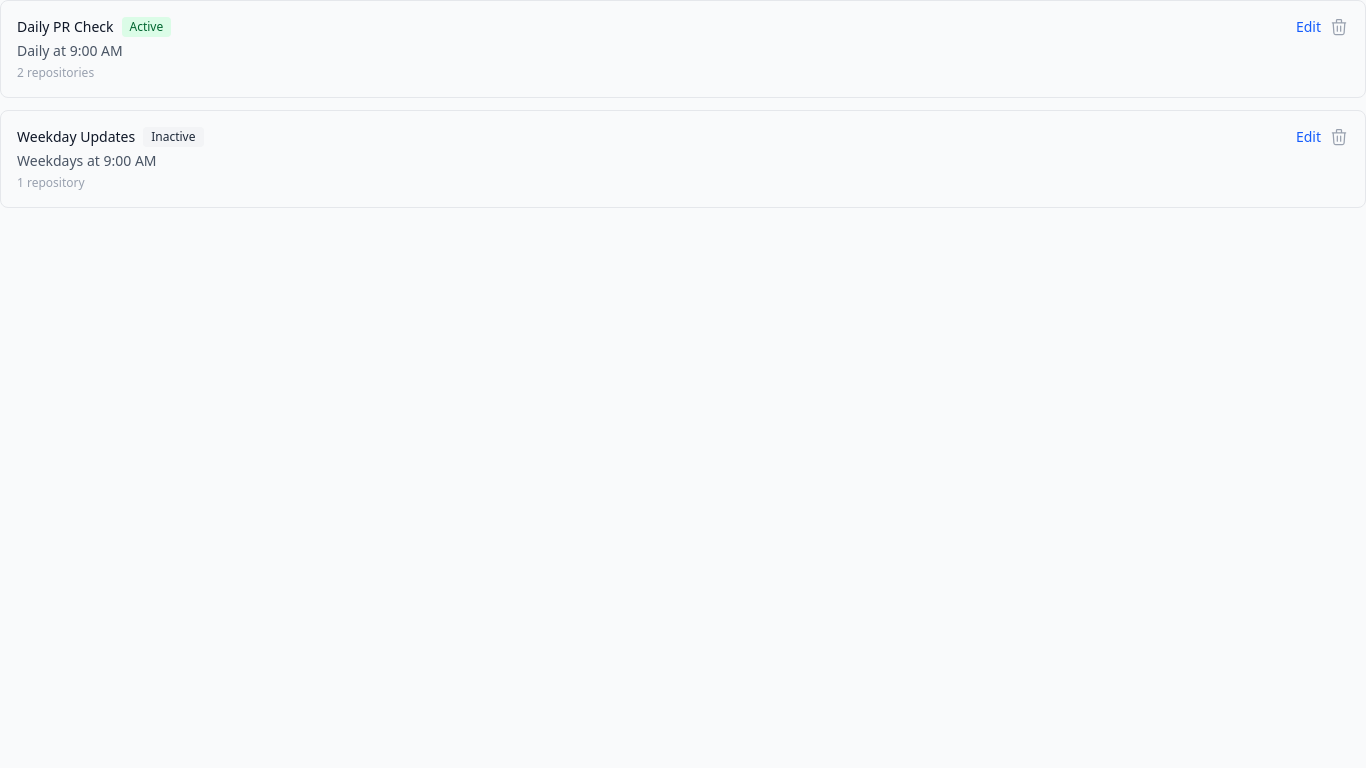
Test: ScheduleList › delete functionality › closes confirmation dialog when cancel clicked
This screenshot has width=1366, height=768.
What coordinates should you click on to do the following:
click the button named "delete daily pr check"
I would click on:
 (1339, 27)
Its box is [1329,17,1349,37].
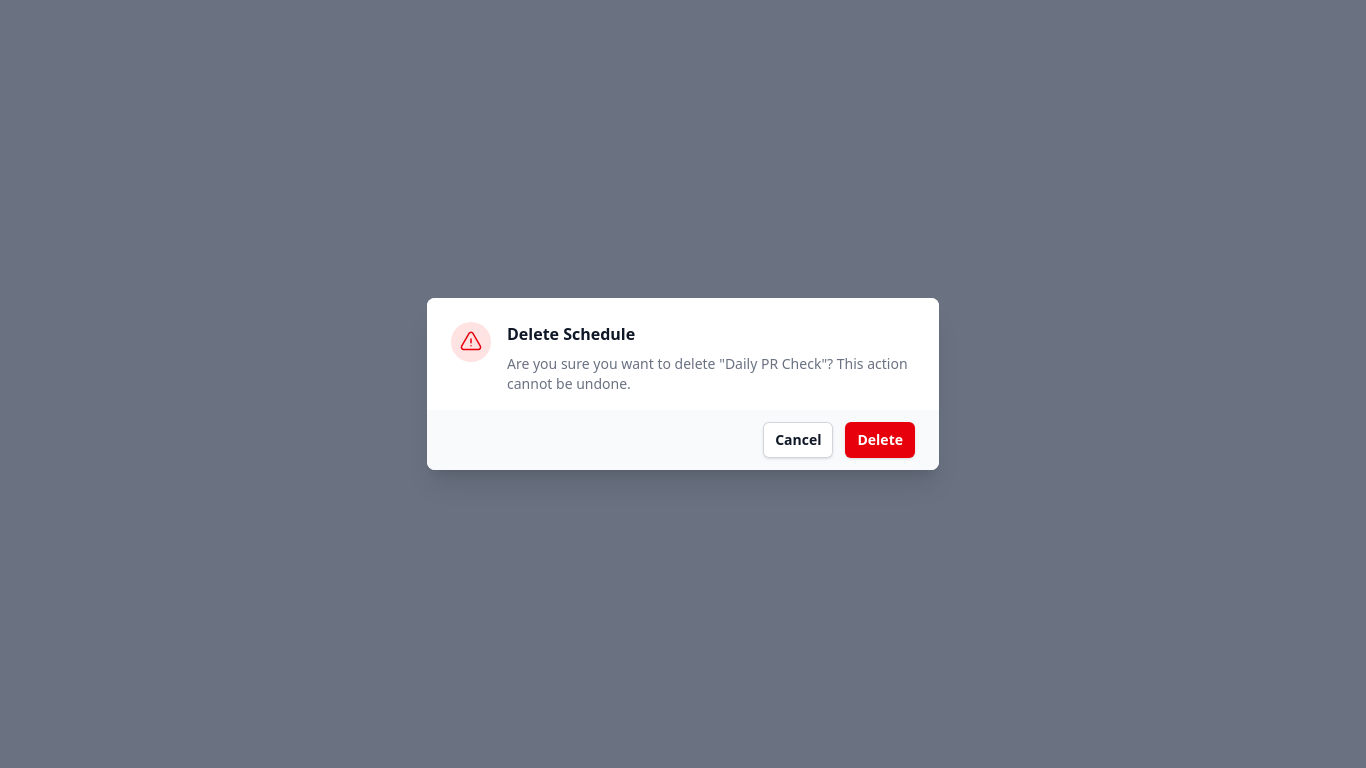
What coordinates should you click on to do the following:
click the button "Cancel"
I would click on:
 (798, 440)
Its box is [763,422,834,458].
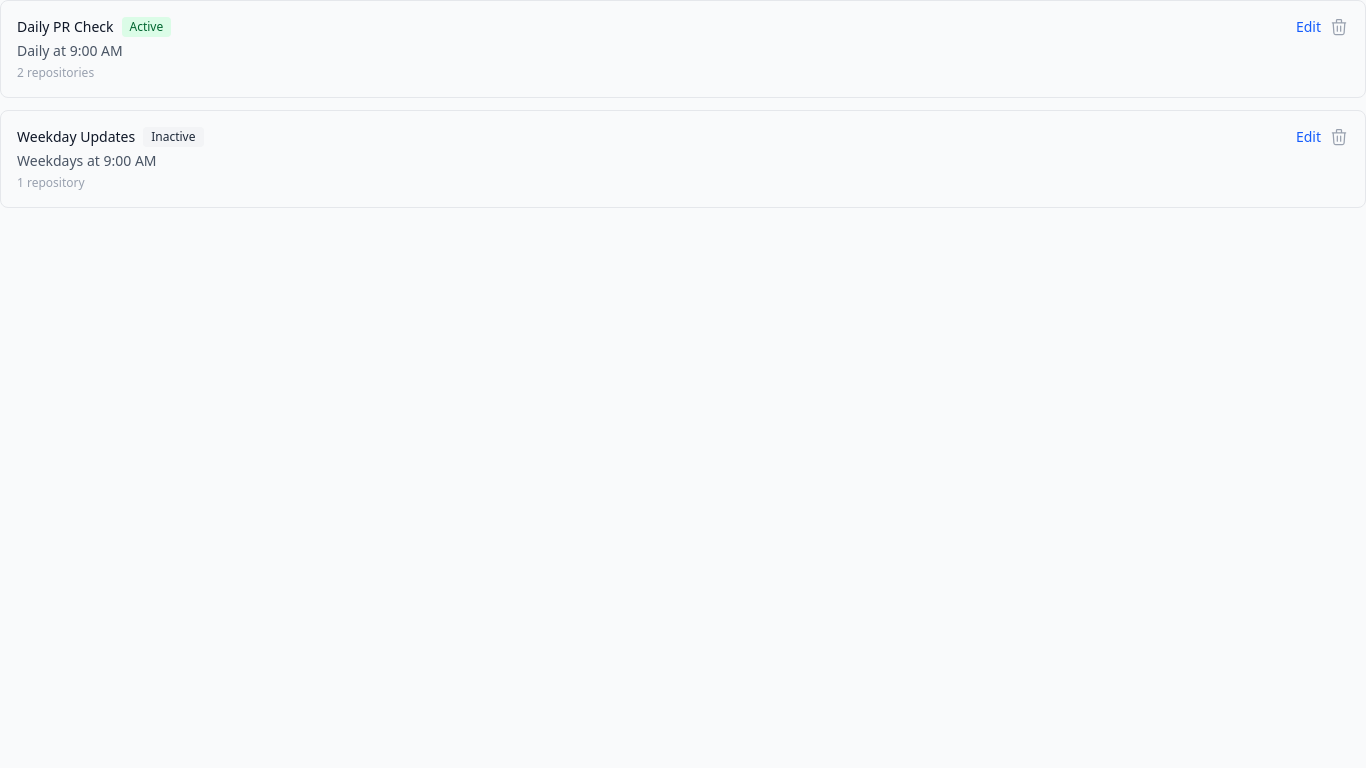
Now the heading "Delete Schedule" is gone
